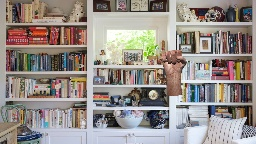Pugno: (158, 48, 189, 75)
